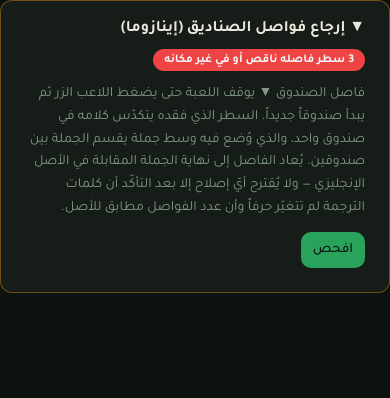
Test: Inazuma break-restore panel (Platinum's tool, for ▼) › fixes missing and misplaced breaks in one pass and leaves good lines alone
Expected: the text "3 سطر فاصله ناقص أو في غير مكانه" is shown, [153,49,365,71]
Click the button "افحص".
click(333, 250)  # box [301,232,365,268]
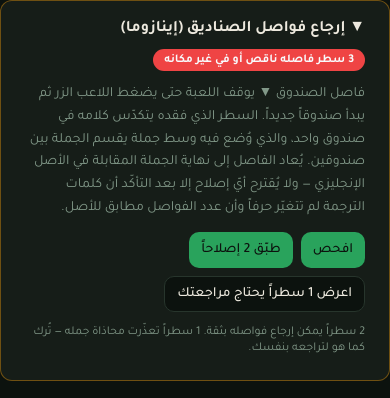
Click the button "طبّق 2 إصلاحاً".
click(241, 250)  # box [189,232,293,268]
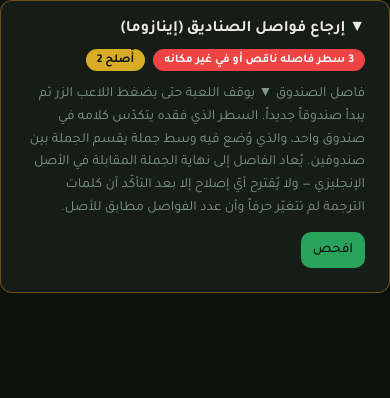
Expected: the button "اعرض" is gone
